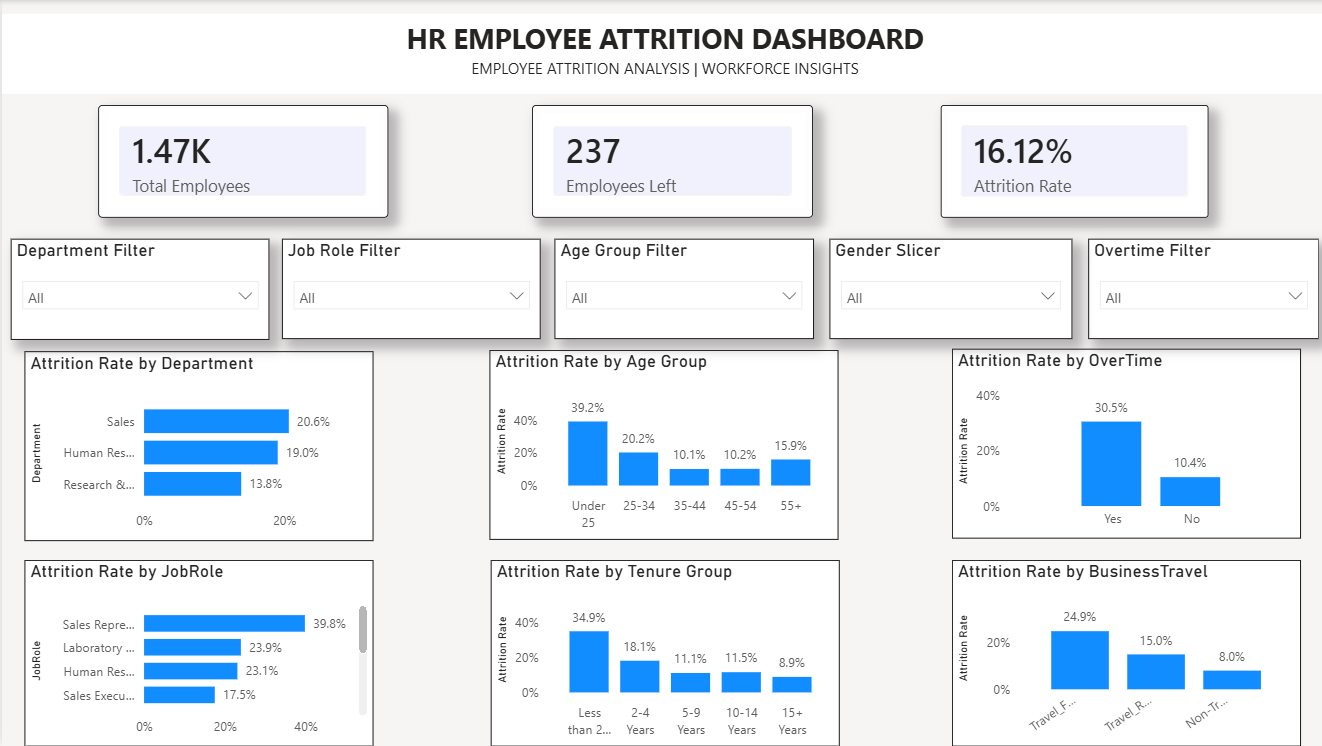

What the dashboard file says about the page in this screenshot:
{"tool":"powerbi","page":{"name":"Page 1","canvas":[1280,720],"ordinal":0},"visuals":[{"type":"cardVisual","fields":{"Data":["CleanEmployeeData.Total Employees"]},"box":[92.9,101.3,279.9,108.6],"z":0},{"type":"cardVisual","fields":{"Data":["CleanEmployeeData.Employees Left"]},"box":[511.5,101.3,271.4,108.6],"z":1000},{"type":"cardVisual","fields":{"Data":["CleanEmployeeData.Attrition Rate"]},"box":[906,101.3,258.2,108.6],"z":2000},{"type":"clusteredBarChart","fields":{"Category":["CleanEmployeeData.Department"],"Y":["CleanEmployeeData.Attrition Rate"]},"box":[21.7,339,337,183],"z":3000},{"type":"clusteredColumnChart","fields":{"Y":["CleanEmployeeData.Attrition Rate"],"Category":["CleanEmployeeData.Age Group"]},"box":[470.5,337.8,337,183],"z":4000},{"type":"clusteredBarChart","fields":{"Category":["CleanEmployeeData.JobRole"],"Y":["CleanEmployeeData.Attrition Rate"]},"box":[21.7,540.5,337,180],"z":5000},{"type":"clusteredColumnChart","fields":{"Y":["CleanEmployeeData.Attrition Rate"],"Category":["CleanEmployeeData.Tenure Group"]},"box":[471.7,540.5,337,180],"z":6000},{"type":"clusteredColumnChart","fields":{"Category":["CleanEmployeeData.OverTime"],"Y":["CleanEmployeeData.Attrition Rate"]},"box":[917,336,337,183],"z":7000},{"type":"clusteredColumnChart","fields":{"Category":["CleanEmployeeData.BusinessTravel"],"Y":["CleanEmployeeData.Attrition Rate"]},"box":[917,540,337,180],"z":8000},{"type":"slicer","title":"Department Filter","fields":{"Values":["CleanEmployeeData.Department"]},"box":[8.4,230.4,249.7,97.7],"z":9000},{"type":"slicer","title":"Job Role Filter","fields":{"Values":["CleanEmployeeData.JobRole"]},"box":[270.2,230.4,249.7,96.5],"z":10000},{"type":"slicer","title":"Age Group Filter","fields":{"Values":["CleanEmployeeData.Age Group"]},"box":[533.2,230.4,250,97],"z":11000},{"type":"slicer","title":"Overtime Filter","fields":{"Values":["CleanEmployeeData.OverTime"]},"box":[1048.4,230.4,223.2,96.5],"z":12000},{"type":"slicer","title":"Gender Slicer","fields":{"Values":["CleanEmployeeData.Gender"]},"box":[798.7,230.4,234,97],"z":13000},{"type":"textbox","box":[0,13.5,1280,56],"z":14000},{"type":"textbox","box":[0,51,1280,40],"z":14001}]}

Visuals, with their boxes in screenshot pixels (x1, y1, x2, y2), scaled from the page's 1280x720 canvas onto the 1322x746 screenshot:
cardVisual - CleanEmployeeData.Total Employees: 96, 105, 385, 217
cardVisual - CleanEmployeeData.Employees Left: 528, 105, 809, 217
cardVisual - CleanEmployeeData.Attrition Rate: 936, 105, 1202, 217
clusteredBarChart - CleanEmployeeData.Department x CleanEmployeeData.Attrition Rate: 22, 351, 370, 541
clusteredColumnChart - CleanEmployeeData.Attrition Rate x CleanEmployeeData.Age Group: 486, 350, 834, 540
clusteredBarChart - CleanEmployeeData.JobRole x CleanEmployeeData.Attrition Rate: 22, 560, 370, 745
clusteredColumnChart - CleanEmployeeData.Attrition Rate x CleanEmployeeData.Tenure Group: 487, 560, 835, 745
clusteredColumnChart - CleanEmployeeData.OverTime x CleanEmployeeData.Attrition Rate: 947, 348, 1295, 538
clusteredColumnChart - CleanEmployeeData.BusinessTravel x CleanEmployeeData.Attrition Rate: 947, 560, 1295, 745
"Department Filter" slicer: 9, 239, 267, 340
"Job Role Filter" slicer: 279, 239, 537, 339
"Age Group Filter" slicer: 551, 239, 809, 339
"Overtime Filter" slicer: 1083, 239, 1313, 339
"Gender Slicer" slicer: 825, 239, 1067, 339
textbox: 0, 14, 1321, 72
textbox: 0, 53, 1321, 94
